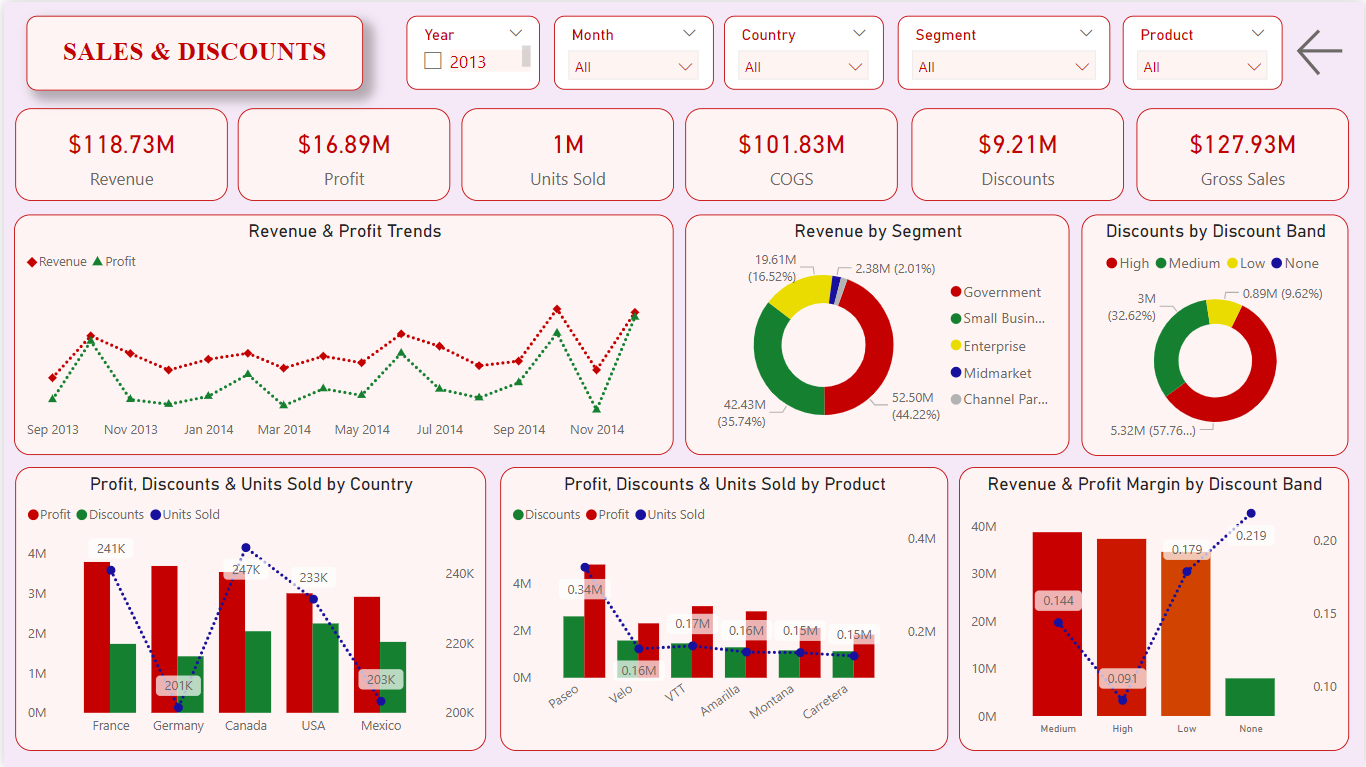

Layout of this report page (visuals, bound fields, positions):
{"tool":"powerbi","page":{"name":"Sales & Discounts","canvas":[1280,720],"ordinal":1},"visuals":[{"type":"lineClusteredColumnComboChart","title":"Revenue & Profit Margin by Discount Band","fields":{"Category":["Finance.Discount_Band"],"Y":["base measures.total revenue"],"Y2":["base measures.profit margin"]},"box":[898.6,437.1,367.1,267.1],"z":0},{"type":"lineClusteredColumnComboChart","title":"Profit, Discounts & Units Sold by Product","fields":{"Category":["Finance.Product"],"Y":["base measures.Discounts","base measures.Profit"],"Y2":["base measures.Units Sold"]},"box":[467.1,437.1,421.4,267.1],"z":1000},{"type":"lineClusteredColumnComboChart","title":"Profit, Discounts & Units Sold by Country","fields":{"Category":["Finance.Country"],"Y":["base measures.Profit","base measures.Discounts"],"Y2":["base measures.Units Sold"]},"box":[10,437.1,442.9,267.1],"z":2000},{"type":"lineChart","title":"Revenue & Profit Trends","fields":{"Category":["Finance.Date","Finance.Month_Name","Finance.Day"],"Y":["base measures.total revenue"],"Y2":["base measures.total profit"]},"box":[9.8,200.5,621.2,226.2],"z":3000},{"type":"donutChart","title":"Discounts by Discount Band","fields":{"Category":["Finance.Discount_Band"],"Y":["base measures.Discounts"]},"box":[1014.3,200,251.4,227.1],"z":4000},{"type":"donutChart","fields":{"Category":["Finance.Segment"],"Y":["base measures.Revenue"]},"box":[640.8,200.5,362,226.2],"z":5000},{"type":"card","fields":{"Values":["base measures.Revenue"]},"box":[10,100,200,87.1],"z":6000},{"type":"card","fields":{"Values":["base measures.Profit"]},"box":[220,100,200,87.1],"z":7000},{"type":"card","fields":{"Values":["base measures.Units Sold"]},"box":[430,100,200,87.1],"z":8000},{"type":"card","fields":{"Values":["base measures.COGS"]},"box":[641,100,200,87.1],"z":9000},{"type":"card","fields":{"Values":["base measures.Discounts"]},"box":[854,100,200,87.1],"z":10000},{"type":"card","fields":{"Values":["base measures.Gross Sales"]},"box":[1065.7,100,200,87.1],"z":11000},{"type":"textbox","box":[21.4,12.9,317.1,70],"z":12000},{"type":"slicer","fields":{"Values":["Finance.Month"]},"box":[517.4,12.8,150,69.8],"z":13000},{"type":"slicer","fields":{"Values":["Finance.Country"]},"box":[677.9,12.8,150,69.8],"z":14000},{"type":"slicer","fields":{"Values":["Finance.Segment"]},"box":[840.7,12.8,200,69.8],"z":15000},{"type":"slicer","fields":{"Values":["Finance.Product"]},"box":[1053.5,12.8,150,69.8],"z":16000},{"type":"slicer","fields":{"Values":["Finance.Year"]},"box":[379.1,12.8,125.6,69.8],"z":17000},{"type":"actionButton","box":[1211.6,12.8,54.7,69.8],"z":18000}]}

Visuals, with their boxes in screenshot pixels (x1, y1, x2, y2), scaled from the page's 1280x720 canvas onto the 1366x767 screenshot:
"Revenue & Profit Margin by Discount Band" lineClusteredColumnComboChart: Rect(959, 466, 1351, 750)
"Profit, Discounts & Units Sold by Product" lineClusteredColumnComboChart: Rect(498, 466, 948, 750)
"Profit, Discounts & Units Sold by Country" lineClusteredColumnComboChart: Rect(11, 466, 483, 750)
"Revenue & Profit Trends" lineChart: Rect(10, 214, 673, 455)
"Discounts by Discount Band" donutChart: Rect(1082, 213, 1351, 455)
donutChart - Finance.Segment x base measures.Revenue: Rect(684, 214, 1070, 455)
card - base measures.Revenue: Rect(11, 107, 224, 199)
card - base measures.Profit: Rect(235, 107, 448, 199)
card - base measures.Units Sold: Rect(459, 107, 672, 199)
card - base measures.COGS: Rect(684, 107, 898, 199)
card - base measures.Discounts: Rect(911, 107, 1125, 199)
card - base measures.Gross Sales: Rect(1137, 107, 1351, 199)
textbox: Rect(23, 14, 361, 88)
slicer - Finance.Month: Rect(552, 14, 712, 88)
slicer - Finance.Country: Rect(723, 14, 884, 88)
slicer - Finance.Segment: Rect(897, 14, 1111, 88)
slicer - Finance.Product: Rect(1124, 14, 1284, 88)
slicer - Finance.Year: Rect(405, 14, 539, 88)
actionButton: Rect(1293, 14, 1351, 88)
